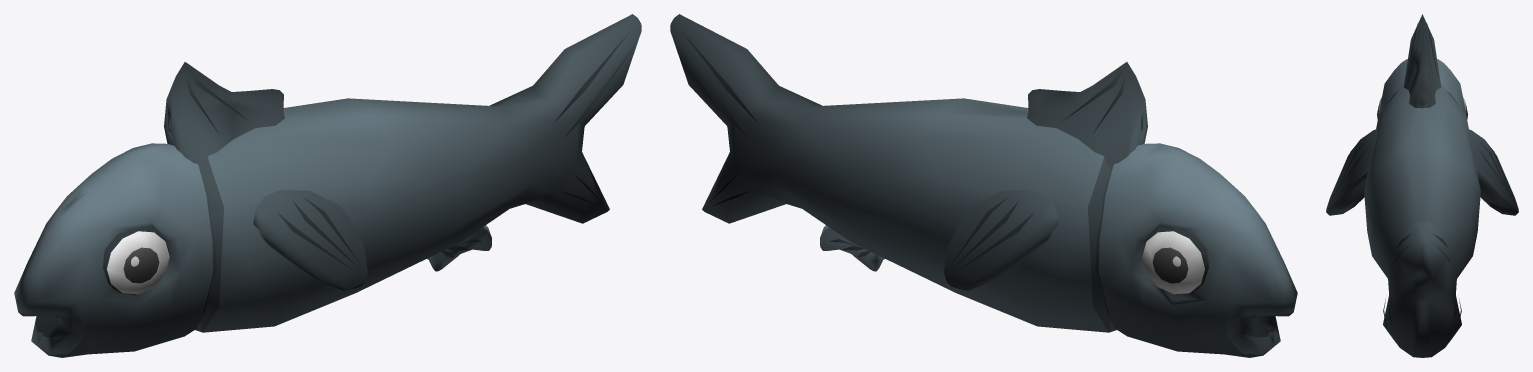
The model's file is fish.glb.
3 views of the same model, side by side, from view 1: azimuth 30°, elevation 25°; view 2: azimuth 150°, elevation 25°; view 3: azimuth 270°, elevation 25° (orthographic). The views are drawn at different scales.
Parts seen in each view (by area): view 1: fish; view 2: fish; view 3: fish.
Part boxes in pixels (box(x1,y1,x2,y2)): fish: box(14, 14, 641, 357); fish: box(670, 14, 1297, 357); fish: box(1326, 14, 1518, 357).
Size of the model in its own units: 1.05 by 0.4486 by 0.3685.
Materials: 1 (1 with a texture image).
